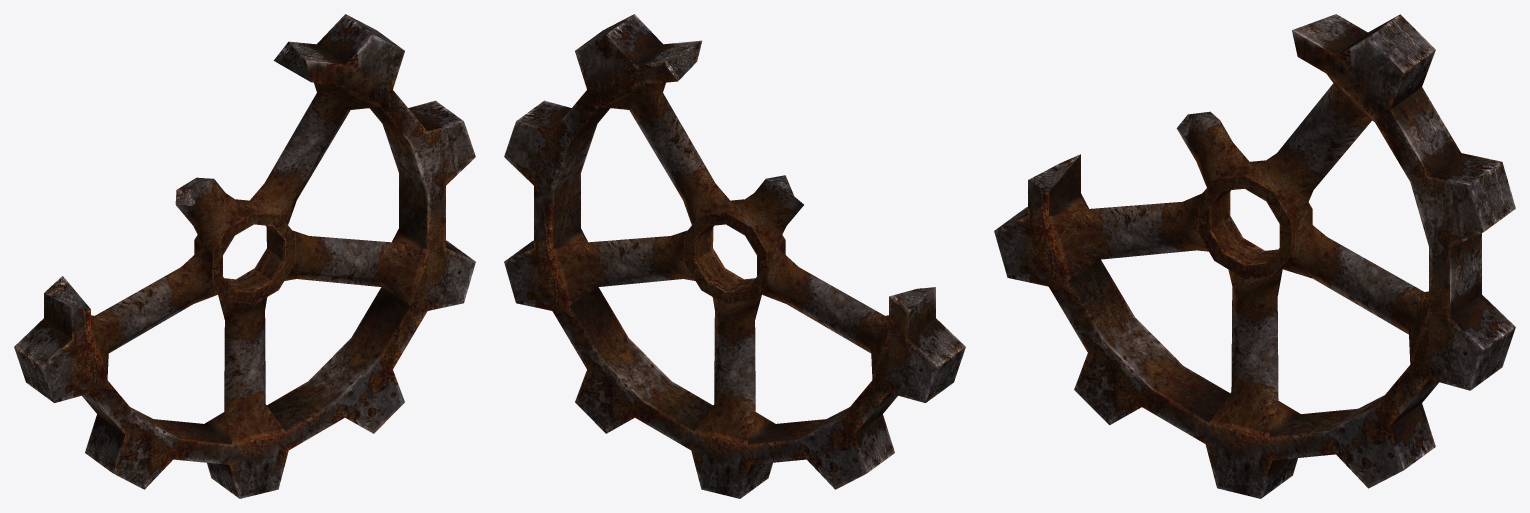
File: cogwheel_large_broken.dae
3 renders of one model, left to right at view 1: azimuth 30°, elevation 25°; view 2: azimuth 150°, elevation 25°; view 3: azimuth 330°, elevation 25°, orthographic. The views are drawn at different scales.
Parts seen in each view (by area): view 1: polySurface16; view 2: polySurface16; view 3: polySurface16.
Boxes of the visible parts, x1,y1,x2,y2 form: polySurface16: (14, 14, 475, 498); polySurface16: (504, 14, 965, 498); polySurface16: (994, 14, 1515, 498).
Bounding box in the file's own units: 2.92 × 2.77 × 0.3305.
